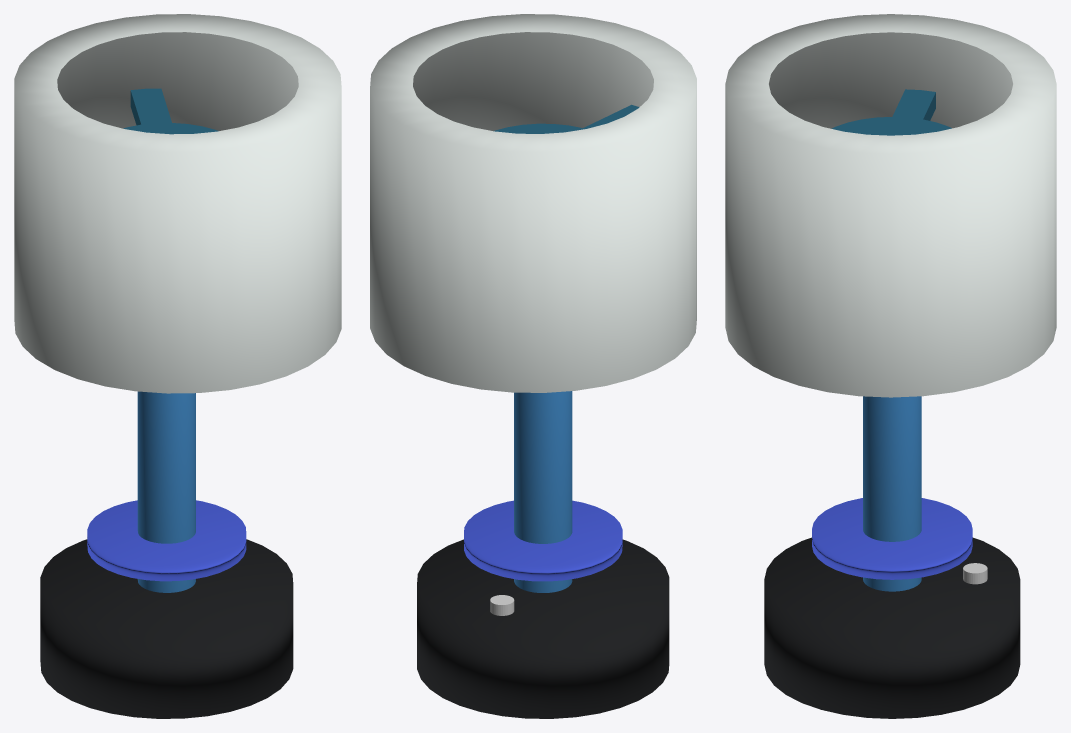
File: TableLampblend.fbx
3 views of the same model, side by side, from view 1: azimuth 30°, elevation 25°; view 2: azimuth 150°, elevation 25°; view 3: azimuth 270°, elevation 25° (orthographic).
Visible parts, largest first — view 1: Cylinder.003, Cylinder.001, Cylinder, Cylinder.002, Cylinder.006; view 2: Cylinder.003, Cylinder.001, Cylinder, Cylinder.002, Cylinder.006; view 3: Cylinder.003, Cylinder.001, Cylinder, Cylinder.002, Cylinder.006.
Boxes of the visible parts, left/top/right/bottom form: Cylinder.003: left=14, top=14, right=341, bottom=393; Cylinder.001: left=40, top=539, right=293, bottom=718; Cylinder: left=137, top=391, right=195, bottom=592; Cylinder.002: left=87, top=500, right=246, bottom=581; Cylinder.006: left=123, top=88, right=218, bottom=134; Cylinder.003: left=370, top=14, right=696, bottom=392; Cylinder.001: left=417, top=539, right=669, bottom=718; Cylinder: left=514, top=391, right=572, bottom=592; Cylinder.002: left=464, top=500, right=622, bottom=581; Cylinder.006: left=493, top=104, right=639, bottom=133; Cylinder.003: left=725, top=14, right=1056, bottom=397; Cylinder.001: left=764, top=537, right=1020, bottom=718; Cylinder: left=863, top=396, right=921, bottom=591; Cylinder.002: left=812, top=498, right=972, bottom=579; Cylinder.006: left=832, top=89, right=951, bottom=135.
Size of the model in its own units: 152 by 297 by 152.
